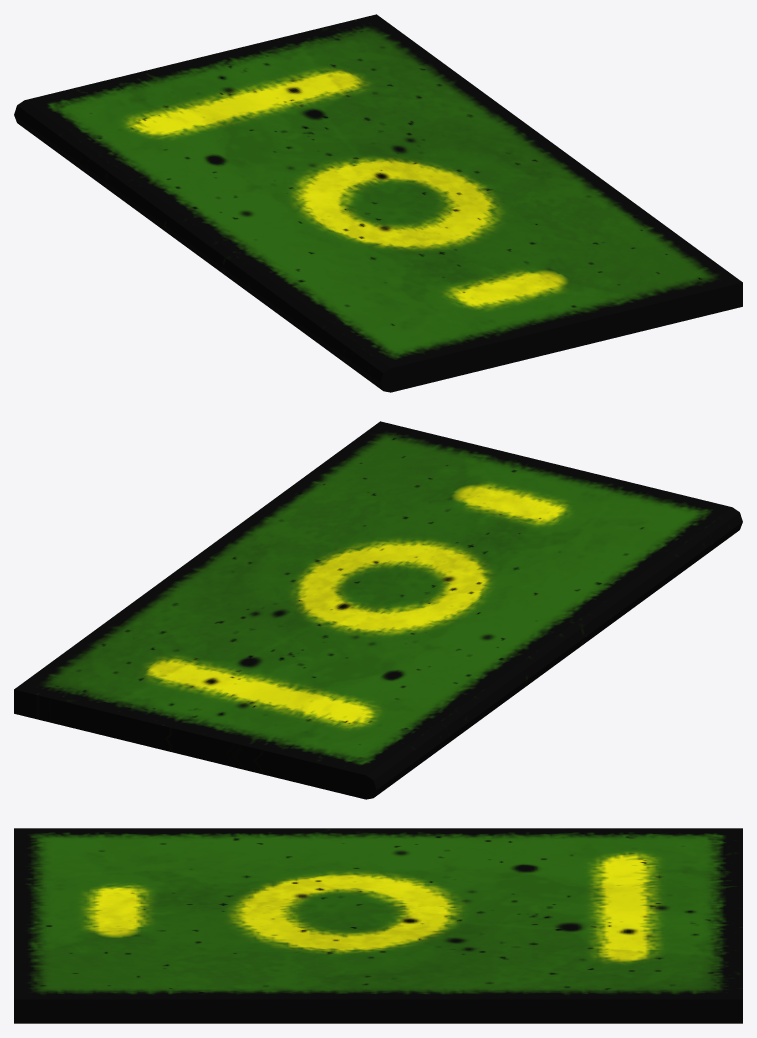
The model's file is passport.obj.
3 renders of one model, top to bottom at view 1: azimuth 30°, elevation 25°; view 2: azimuth 150°, elevation 25°; view 3: azimuth 270°, elevation 25°, orthographic.
Parts seen in each view (by area): view 1: Cube_Cube.001, Cube.001_Cube.002; view 2: Cube_Cube.001, Cube.001_Cube.002; view 3: Cube_Cube.001, Cube.001_Cube.002.
Boxes of the visible parts, box(x1,y1,x2,y2) form: Cube_Cube.001: box(14, 14, 742, 382); Cube.001_Cube.002: box(14, 115, 742, 392); Cube_Cube.001: box(14, 421, 742, 789); Cube.001_Cube.002: box(14, 522, 742, 799); Cube_Cube.001: box(14, 828, 742, 1011); Cube.001_Cube.002: box(14, 1011, 742, 1023).
Size of the model in its own units: 0.3483 by 0.0222 by 0.6095.
